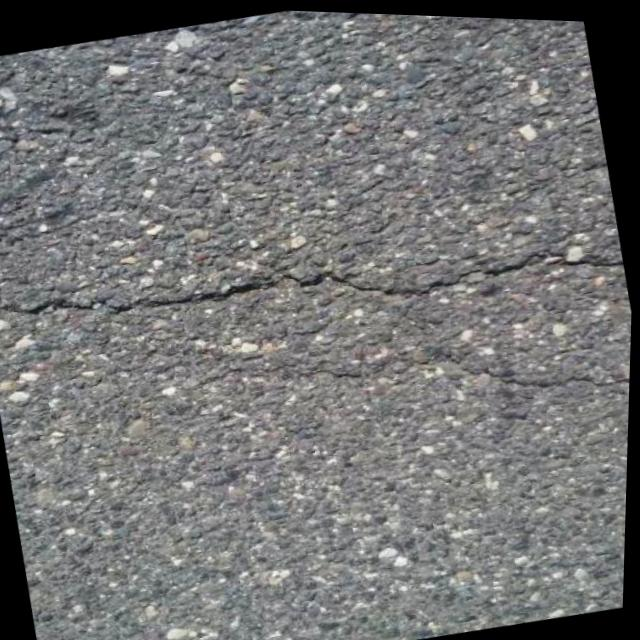Crack: (0, 165, 628, 389)
